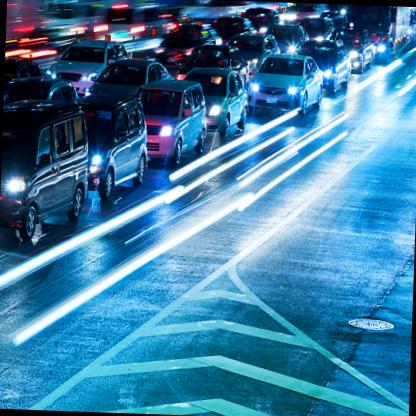manholes: (346, 304, 400, 342)
